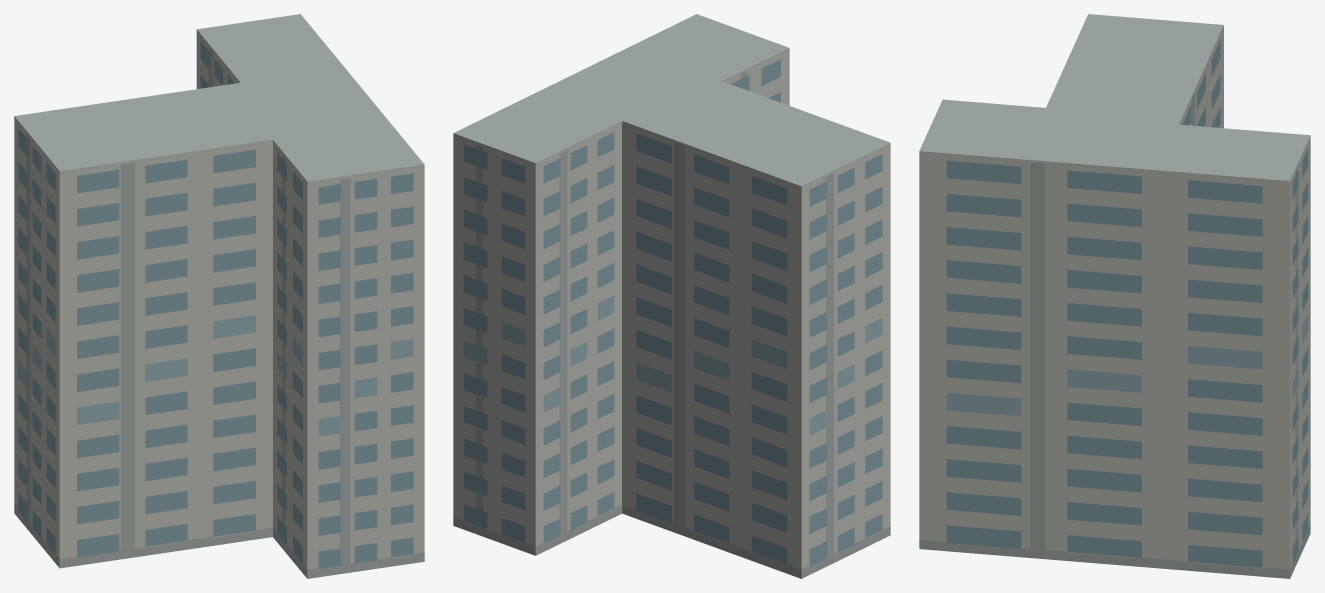
Rendered from residential-81dc1410-3adf-4959-8c82-093ad5968b4a.glb.
3 views of the same model, side by side, from view 1: azimuth 30°, elevation 25°; view 2: azimuth 150°, elevation 25°; view 3: azimuth 270°, elevation 25° (orthographic).
Visible parts, largest first — view 1: residential-81dc1410-3adf-4959-8c82-093ad5968b4a.tmp; view 2: residential-81dc1410-3adf-4959-8c82-093ad5968b4a.tmp; view 3: residential-81dc1410-3adf-4959-8c82-093ad5968b4a.tmp.
Boxes of the visible parts, x1,y1,x2,y2 form: residential-81dc1410-3adf-4959-8c82-093ad5968b4a.tmp: (14, 14, 424, 578); residential-81dc1410-3adf-4959-8c82-093ad5968b4a.tmp: (453, 14, 890, 578); residential-81dc1410-3adf-4959-8c82-093ad5968b4a.tmp: (919, 14, 1310, 578).
Bounding box in the file's own units: 31.51 × 35 × 31.21.
